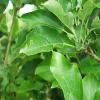Apple Scab Leaf: (18, 25, 65, 56)
